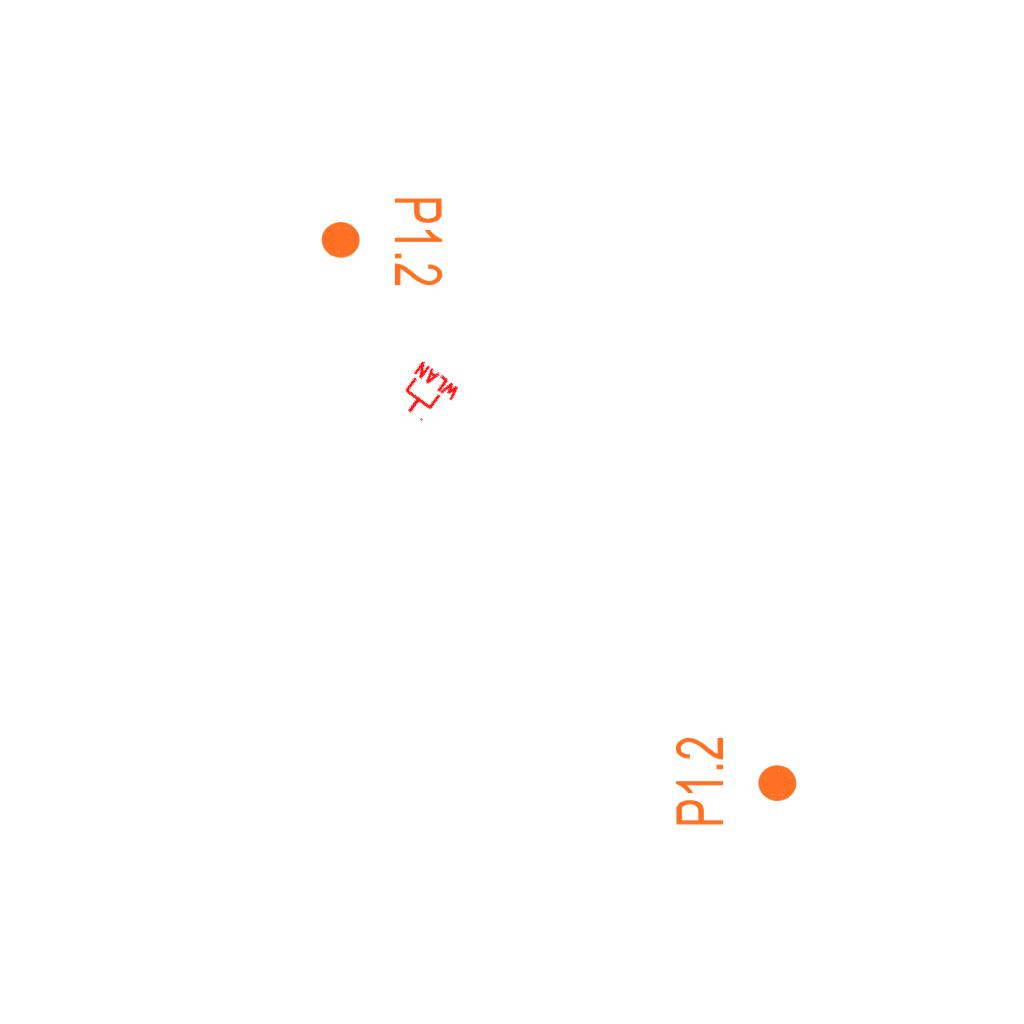Downlight_LED_Einbauleuchten_Flur: (318, 195, 446, 288), (672, 735, 800, 828)
WLAN: (390, 358, 464, 432)
